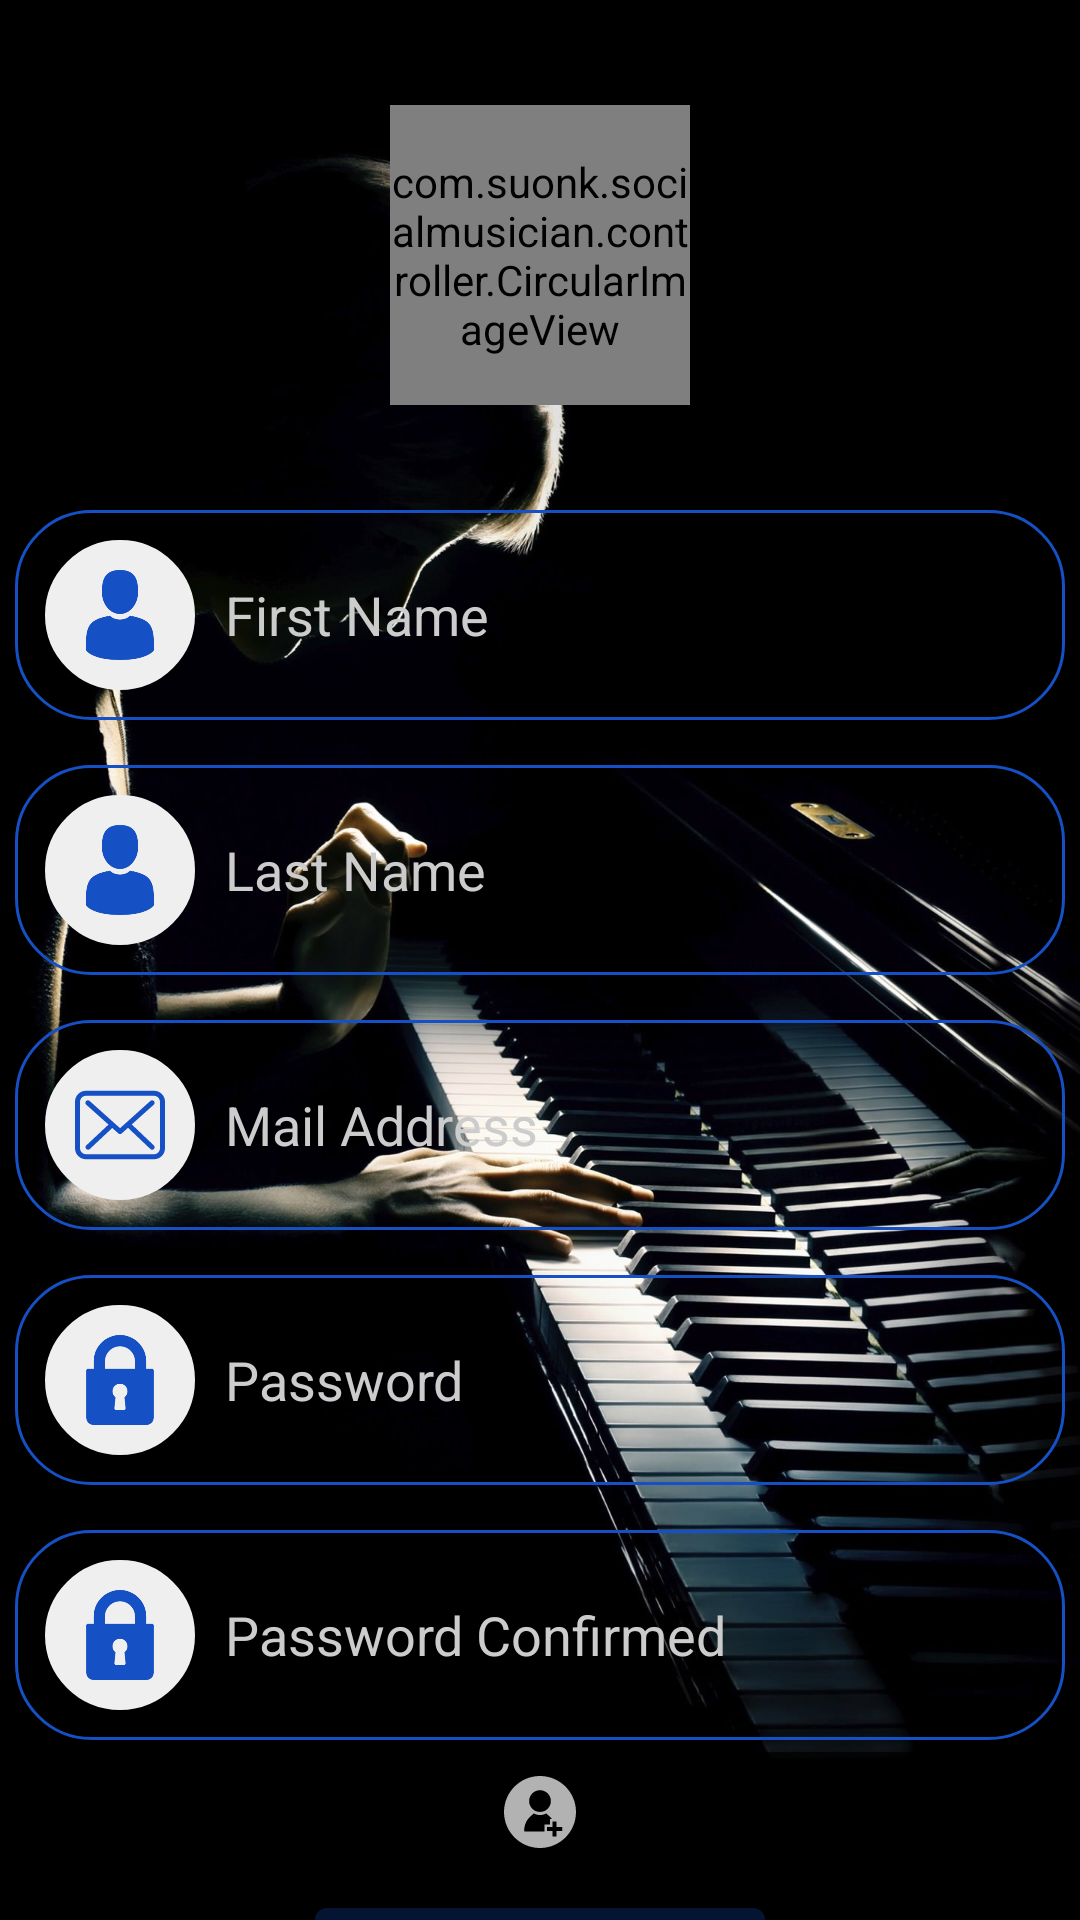

Point at icon controls on the screen. Image size 1080 × 1920, points as (x=x, y=y).
Email Icon: (x=120, y=1125)
